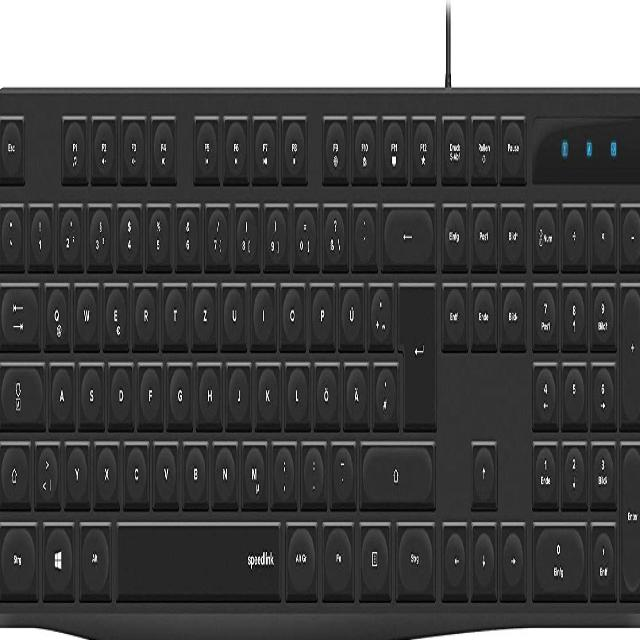0: (291, 196, 316, 264)
1: (26, 197, 51, 263)
2: (56, 198, 81, 264)
3: (86, 196, 111, 264)
4: (116, 198, 141, 264)
5: (144, 196, 169, 264)
6: (174, 198, 199, 264)
7: (203, 198, 228, 266)
8: (232, 197, 258, 266)
9: (261, 197, 287, 266)
a: (48, 356, 73, 424)
accent: (353, 203, 377, 266)
ae: (342, 356, 367, 424)
alt-left: (78, 514, 109, 591)
altgr-right: (284, 514, 315, 594)
b: (180, 434, 206, 502)
c: (122, 434, 147, 503)
caret: (0, 197, 21, 261)
comma: (270, 434, 295, 502)
d: (106, 355, 132, 424)
del: (381, 199, 433, 263)
e: (102, 275, 127, 345)
enter: (397, 281, 437, 432)
f: (136, 356, 161, 422)
g: (165, 356, 190, 422)
h: (195, 355, 220, 423)
hash: (371, 355, 396, 424)
i: (249, 276, 274, 340)
j: (224, 356, 249, 422)
k: (254, 355, 279, 423)
keyboard: (0, 83, 640, 640)
l: (283, 356, 308, 422)
less: (32, 434, 58, 502)
m: (239, 435, 266, 505)
minus: (329, 436, 352, 499)
n: (210, 434, 236, 503)
o: (278, 276, 303, 343)
oe: (313, 357, 338, 423)
p: (308, 276, 333, 344)
plus: (366, 275, 391, 344)
point: (300, 436, 324, 500)
q: (42, 275, 69, 347)
r: (132, 276, 157, 343)
s: (77, 356, 102, 424)
shift-left: (0, 437, 28, 503)
shift-lock: (0, 357, 43, 423)
shift-right: (359, 437, 431, 502)
space: (113, 518, 282, 597)
ss: (321, 198, 346, 264)
strg-left: (0, 515, 35, 595)
strg-right: (393, 516, 433, 594)
t: (161, 276, 185, 341)
tab: (0, 277, 38, 344)
u: (219, 276, 245, 344)
ue: (337, 275, 363, 345)
v: (152, 434, 177, 501)
w: (72, 275, 97, 344)
x: (92, 434, 117, 501)
y: (63, 435, 88, 501)
z: (190, 276, 215, 343)
